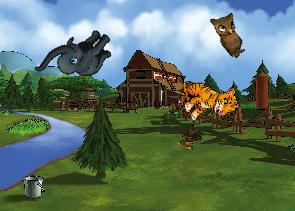elephant: (33, 11, 119, 100)
owl: (205, 6, 256, 60)
tiger: (176, 68, 241, 127)
